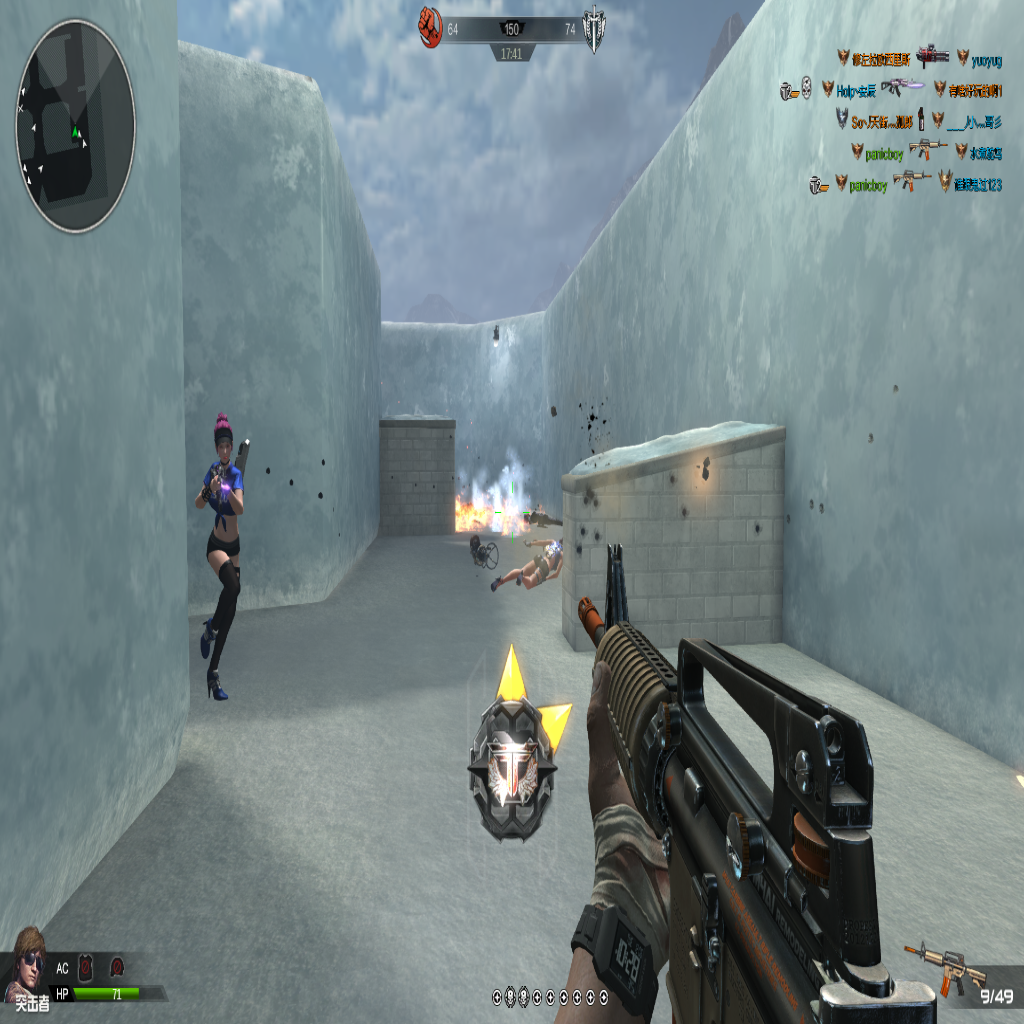ct: (194, 397, 246, 713)
